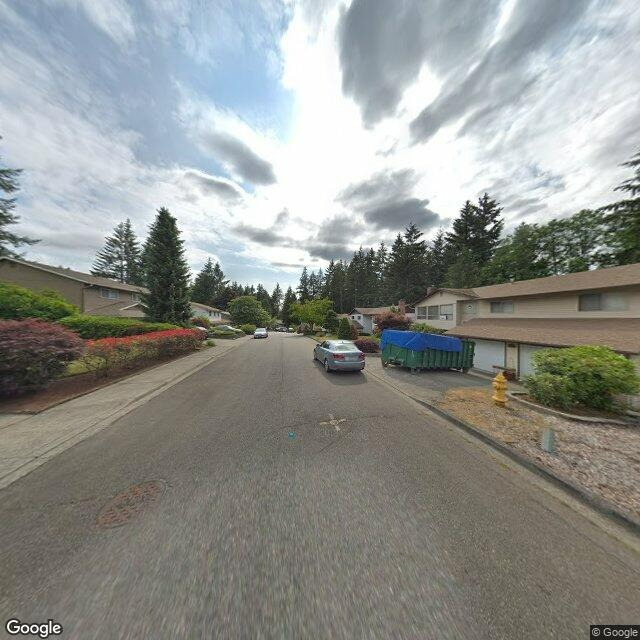hydrant: (484, 368, 516, 410)
